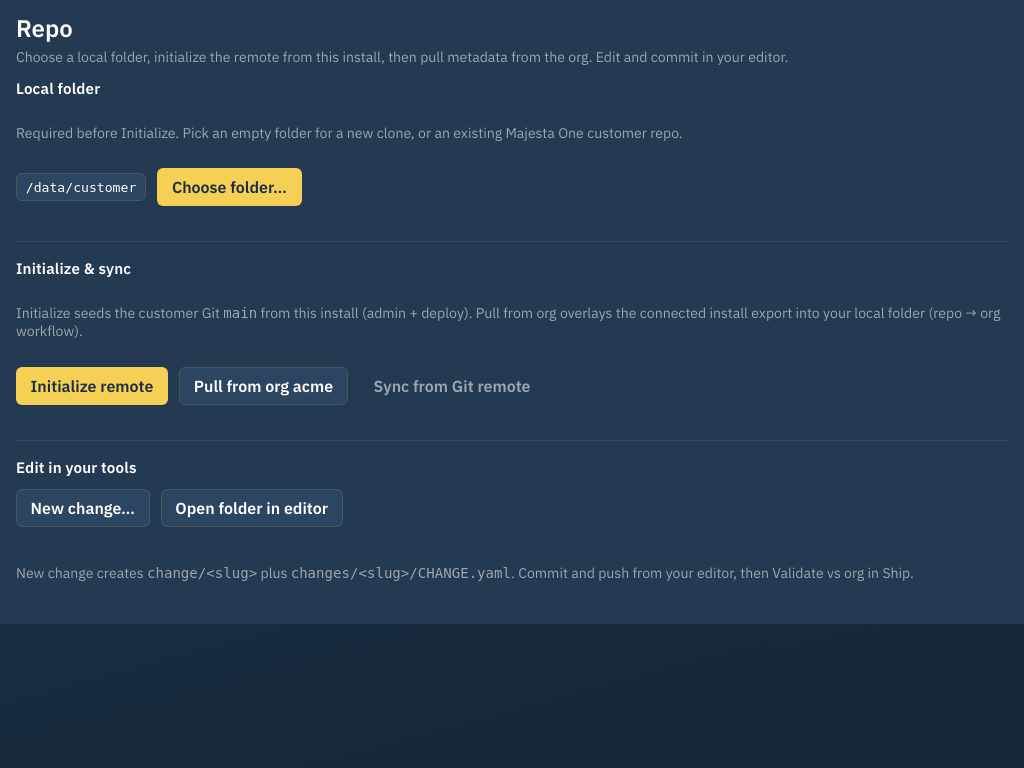
Scenario: RepoPanel › pulls from org into local folder
Click the button with test id "repo-pull-org".
click(263, 386)  # box [179, 366, 348, 404]
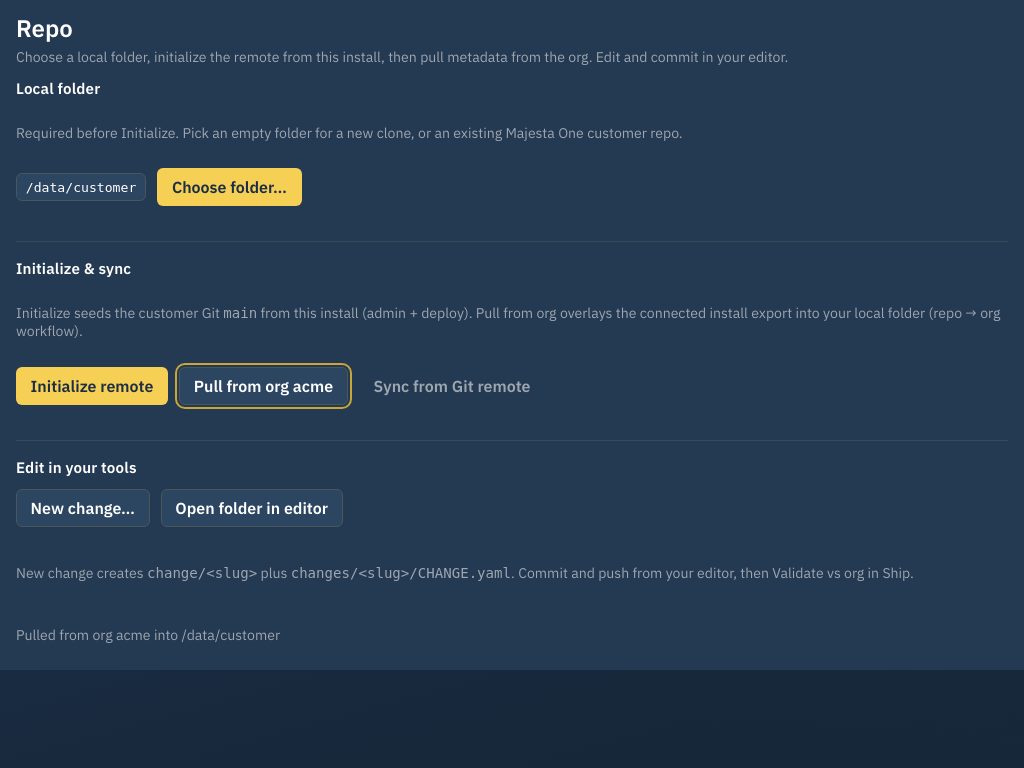
Now the text with test id "repo-info" shows "Pulled from org acme", box [16, 626, 280, 644]
